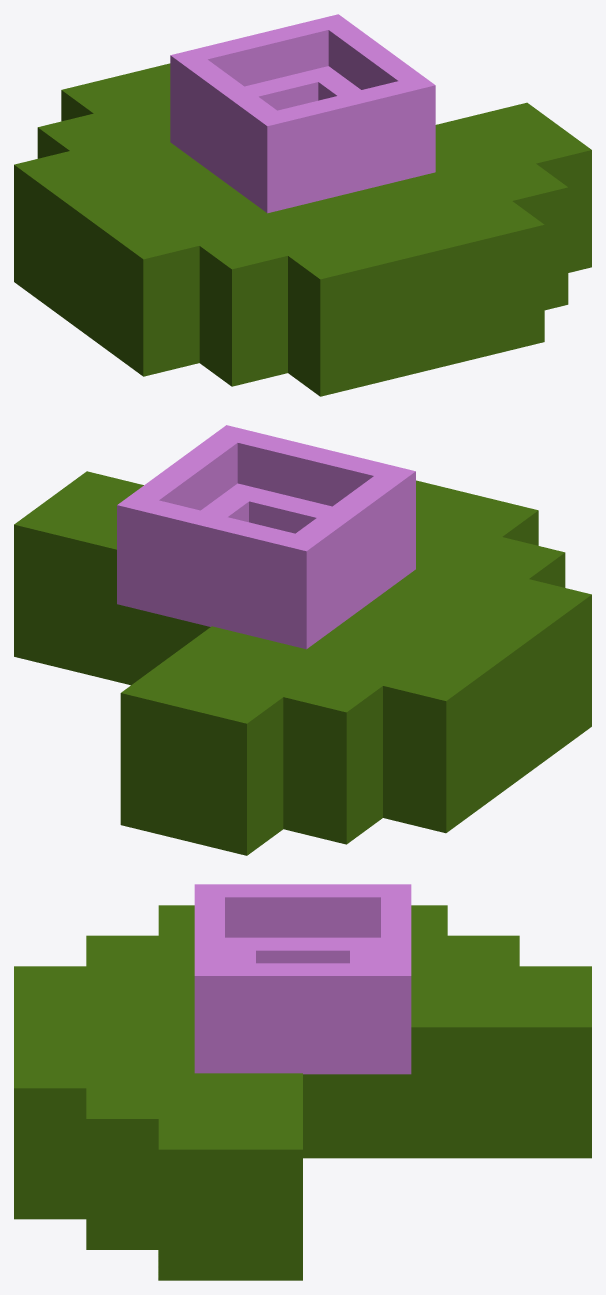
File: waterlily.fbx
3 views of the same model, one above another, from view 1: azimuth 30°, elevation 25°; view 2: azimuth 150°, elevation 25°; view 3: azimuth 270°, elevation 25° (orthographic). The views are drawn at different scales.
Parts seen in each view (by area): view 1: nenuphar +, flower; view 2: nenuphar +, flower; view 3: nenuphar +, flower.
Boxes of the visible parts, bbox=[...] form: nenuphar +: bbox=[14, 63, 591, 396]; flower: bbox=[170, 14, 435, 213]; nenuphar +: bbox=[14, 471, 591, 855]; flower: bbox=[117, 425, 415, 649]; nenuphar +: bbox=[14, 905, 591, 1280]; flower: bbox=[194, 884, 411, 1074].
Size of the model in its own units: 100 by 43.55 by 100.
